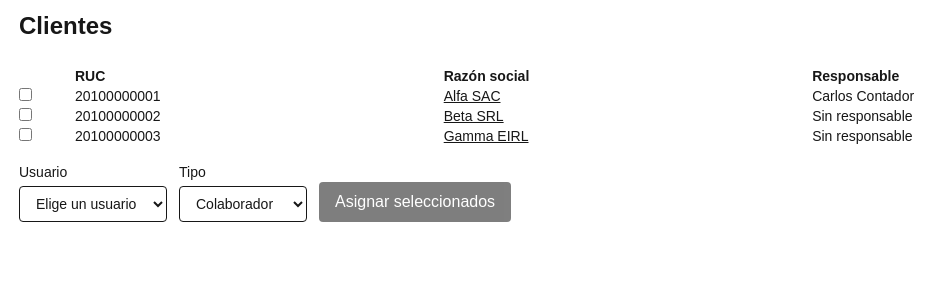
/clientes › 404 (algún ID no visible o inexistente): mensaje genérico y no anuncia asignaciones
Click the checkbox named "Seleccionar Beta SRL" at (26, 114), box top-left (19, 108), bottom-right (32, 121)
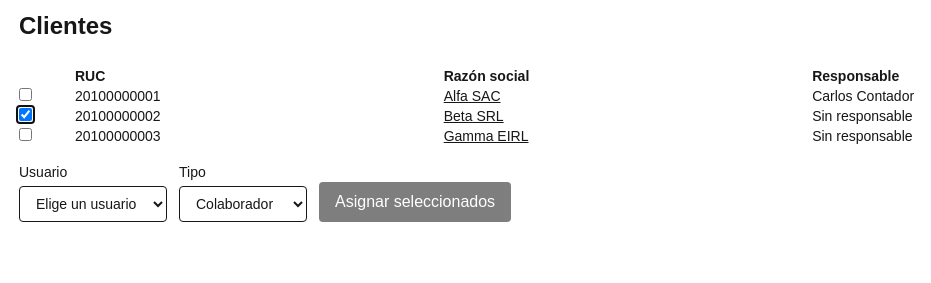
Select "Beto Asistente" in the dropdown labelled "Usuario" at (93, 204), box top-left (19, 186), bottom-right (167, 222)
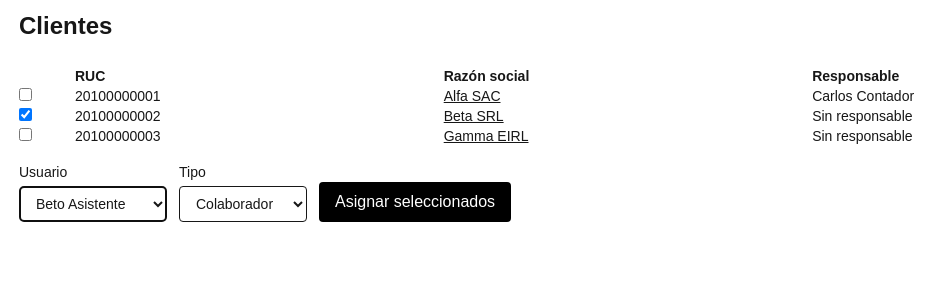
Click the button "Asignar seleccionados" at (415, 202), box top-left (319, 182), bottom-right (511, 222)
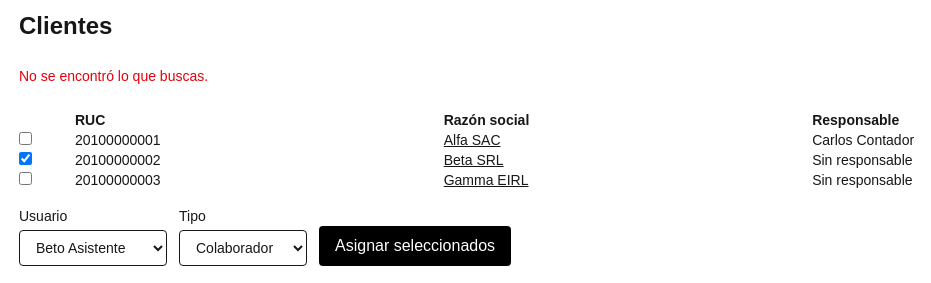
expect the text "No se encontró lo que buscas." is shown: met, box top-left (19, 68), bottom-right (208, 84)
